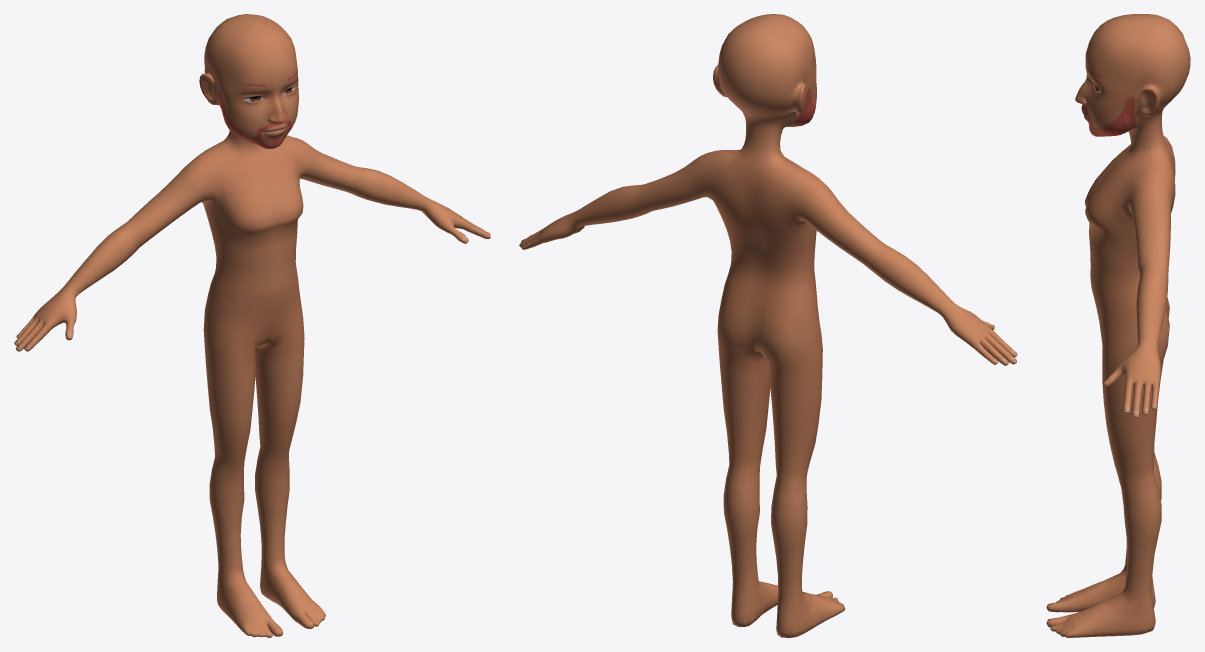
Rendered from frame_0059.glb.
The picture shows the model from 3 angles, left to right: view 1: azimuth 30°, elevation 25°; view 2: azimuth 150°, elevation 25°; view 3: azimuth 270°, elevation 25°; orthographic projection. The views are drawn at different scales.
Visible parts, largest first — view 1: frame_0059_head_geo; view 2: frame_0059_head_geo; view 3: frame_0059_head_geo.
Boxes of the visible parts, box(x1,y1,x2,y2) form: frame_0059_head_geo: box(14, 14, 490, 637); frame_0059_head_geo: box(519, 14, 1017, 637); frame_0059_head_geo: box(1046, 14, 1190, 637).
Size of the model in its own units: 1.28 by 1.5 by 0.3253.
3 materials, 3 textured.
